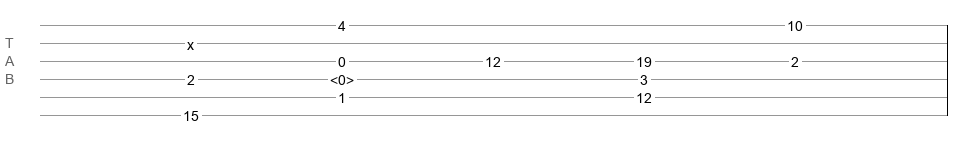0: (338, 54, 346, 64)
1: (338, 90, 346, 100)
10: (787, 18, 803, 28)
12: (485, 54, 501, 64), (636, 90, 652, 100)
15: (183, 108, 199, 118)
19: (636, 54, 652, 64)
2: (187, 72, 195, 82), (791, 54, 799, 64)
3: (640, 72, 648, 82)
4: (338, 18, 346, 28)
harmonic: (330, 72, 354, 82)
x: (187, 37, 194, 45)
